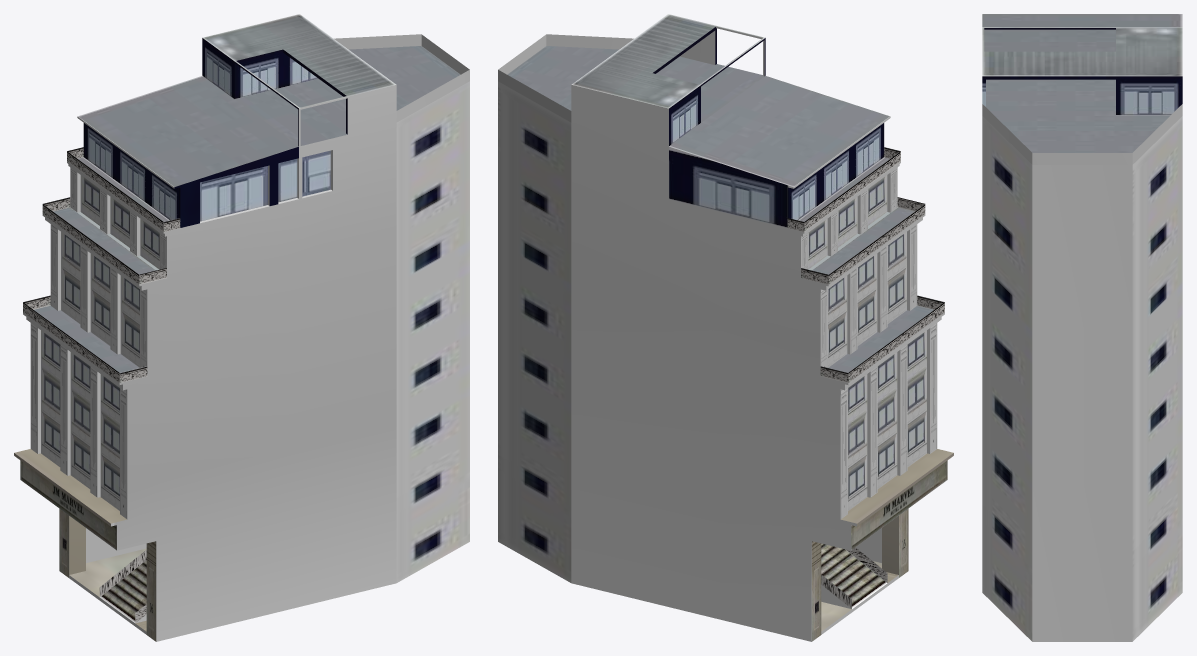
3 views of the same model, side by side, from view 1: azimuth 30°, elevation 25°; view 2: azimuth 150°, elevation 25°; view 3: azimuth 270°, elevation 25° (orthographic). The views are drawn at different scales.
Parts seen in each view (by area): view 1: JM_Marvel_Hotel_and_Spa_; view 2: JM_Marvel_Hotel_and_Spa_; view 3: JM_Marvel_Hotel_and_Spa_.
Boxes of the visible parts, box(x1,y1,x2,y2) form: JM_Marvel_Hotel_and_Spa_: box(14, 14, 469, 641); JM_Marvel_Hotel_and_Spa_: box(498, 14, 953, 641); JM_Marvel_Hotel_and_Spa_: box(982, 14, 1182, 641).
Size of the model in its own units: 27.45 by 34.12 by 12.
1 material, 1 textured.
